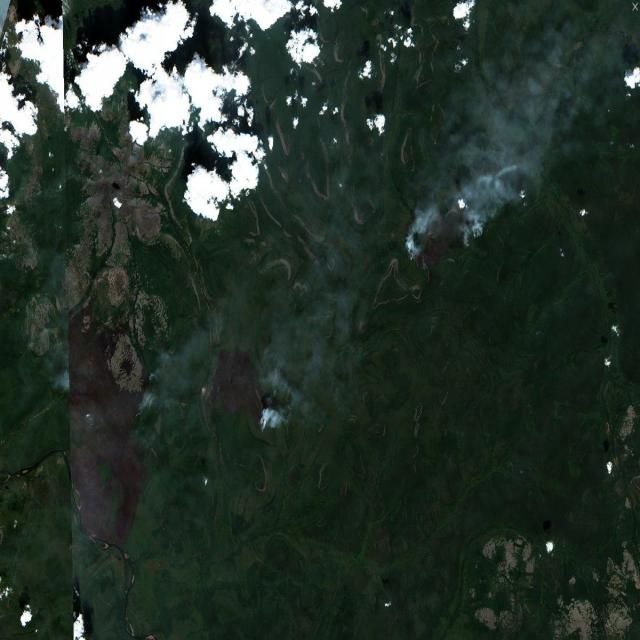fire: (456, 213, 491, 253), (402, 227, 428, 275), (256, 396, 282, 433)
